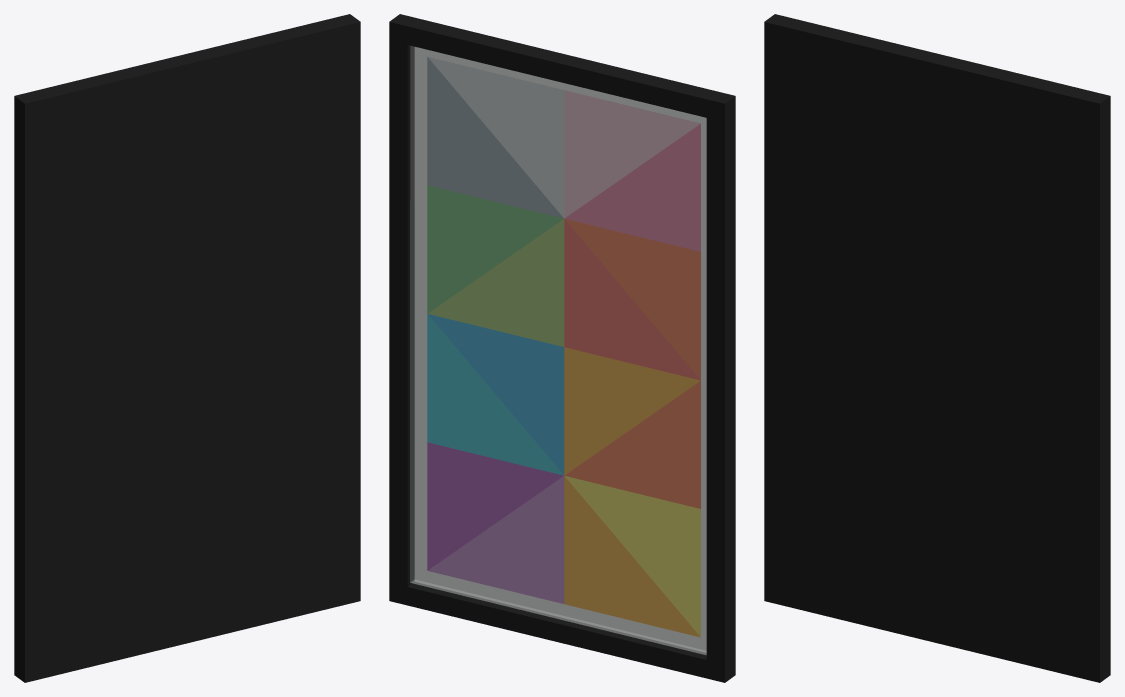
Rendered from crewWallArt.glb.
3 renders of one model, left to right at view 1: azimuth 30°, elevation 25°; view 2: azimuth 150°, elevation 25°; view 3: azimuth 330°, elevation 25°, orthographic.
Visible parts, largest first — view 1: crewWallArt:Node; view 2: crewWallArt:Node; view 3: crewWallArt:Node.
Boxes of the visible parts, box(x1,y1,x2,y2) form: crewWallArt:Node: box(14, 14, 360, 682); crewWallArt:Node: box(389, 14, 735, 682); crewWallArt:Node: box(764, 14, 1110, 682).
Size of the model in its own units: 0.54 by 0.89 by 0.03.
